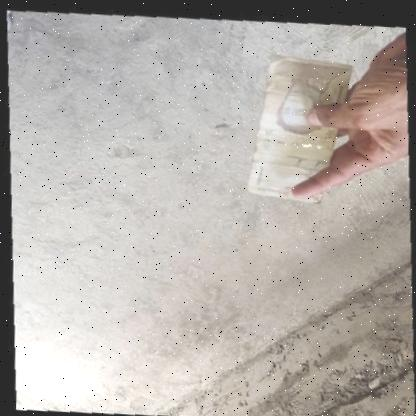five-front-vef: (244, 48, 355, 204)
